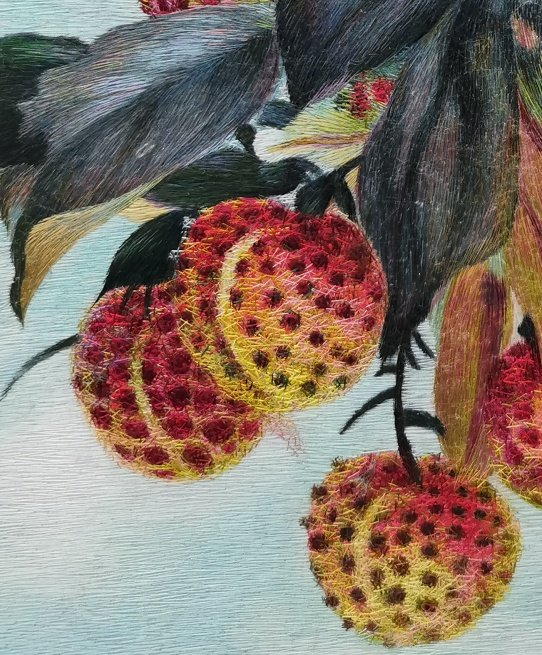lychee: (173, 195, 388, 412), (305, 450, 522, 650), (71, 285, 267, 484), (477, 344, 542, 512)
